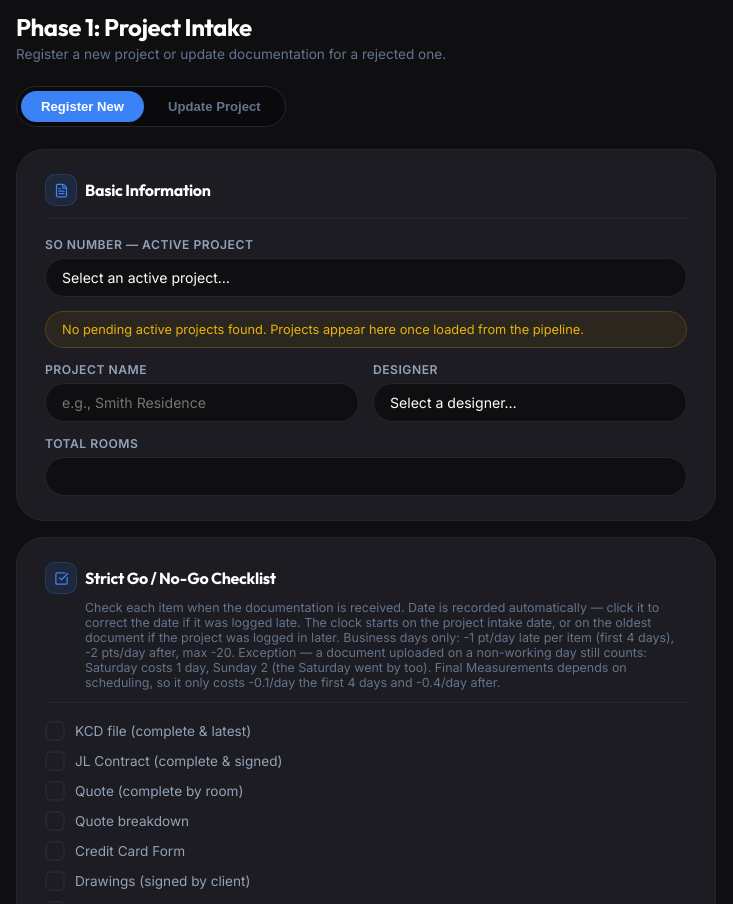
Test: lo que el refresco si tiene que seguir haciendo › carga el proyecto al elegirlo
This screenshot has width=733, height=904.
Click the button "Update Project". click: {"x": 214, "y": 106}
box: [148, 91, 281, 122]
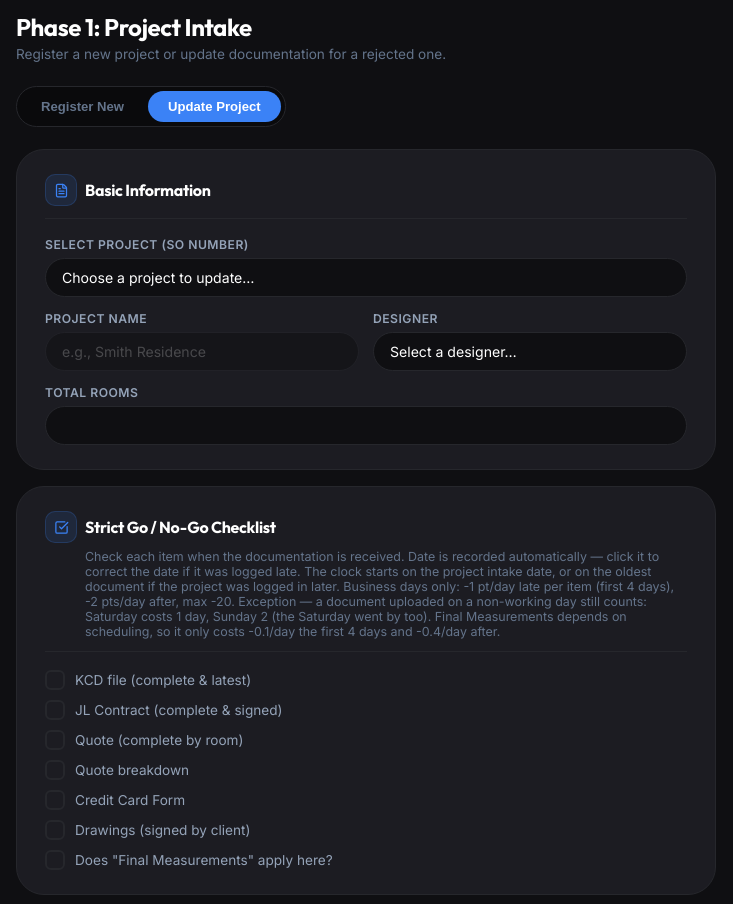
Select "12575 — Saved Residence (Approved)" in the dropdown named "soNumber" below "Select Project (SO Number)". click: {"x": 366, "y": 278}
box: [45, 258, 687, 297]
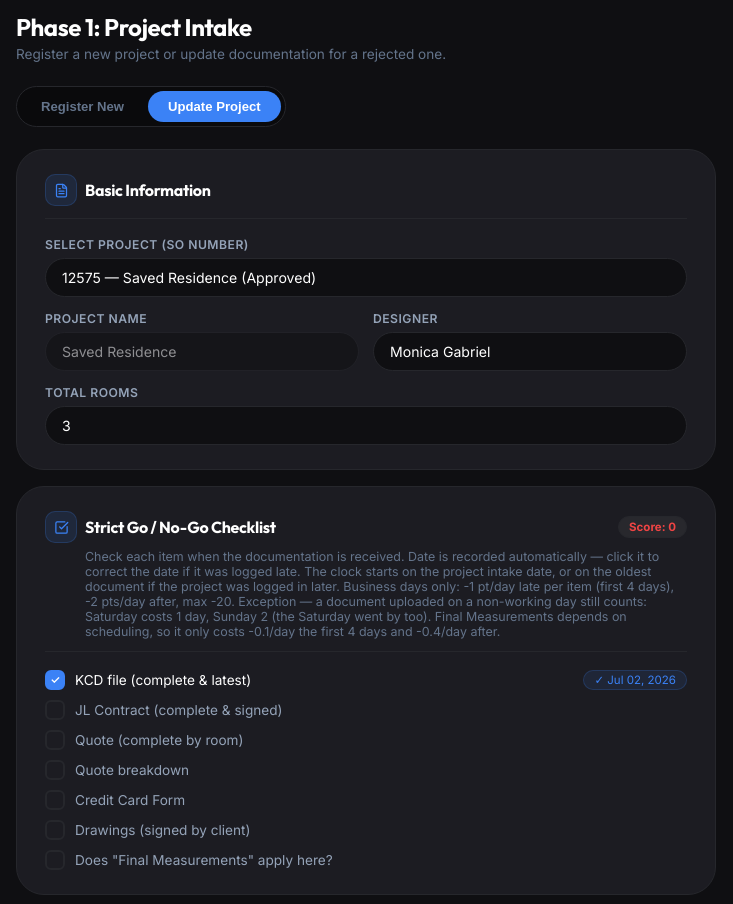
Check: the checkbox labelled "✓ KCD file (complete & latest) ✓ Jul 02, 2026" is checked, box [45, 670, 687, 690]
Check: the text titled "Click to correct the date" shows "Jul 02", box [607, 673, 676, 687]
